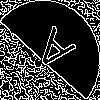A: (25, 25, 78, 81)
